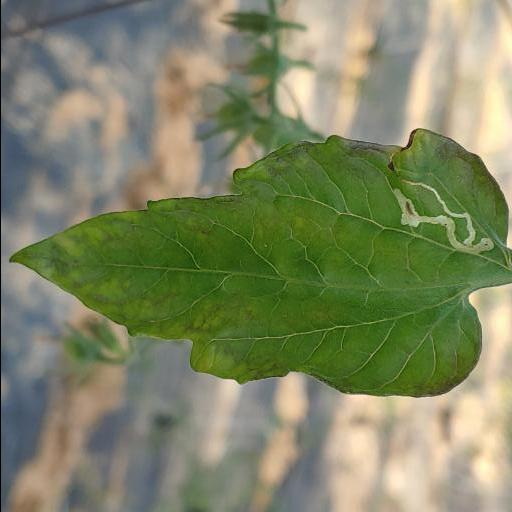disease_tomato: (8, 127, 510, 399)
